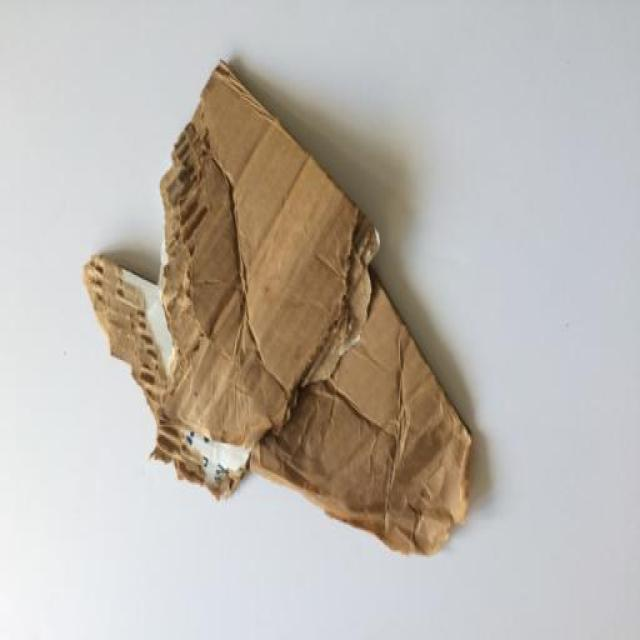cardboard: (80, 60, 475, 557)
